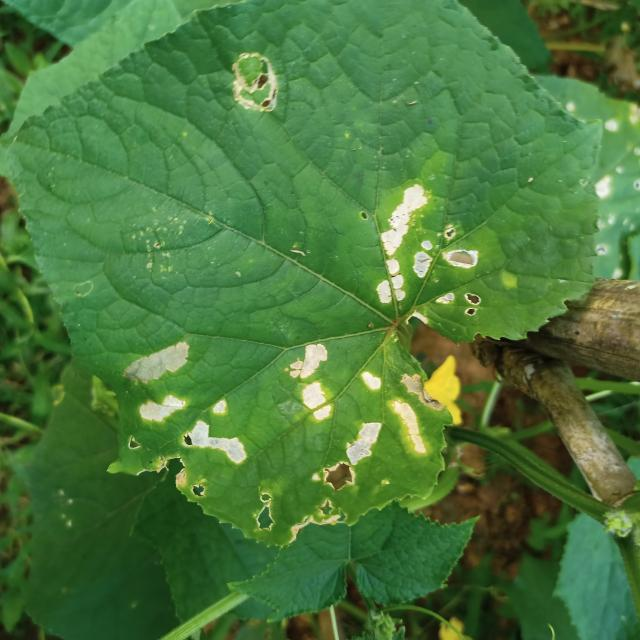disease_cucumber: (365, 180, 484, 332), (338, 350, 444, 490), (111, 336, 189, 425), (276, 339, 336, 427), (188, 397, 255, 467)
